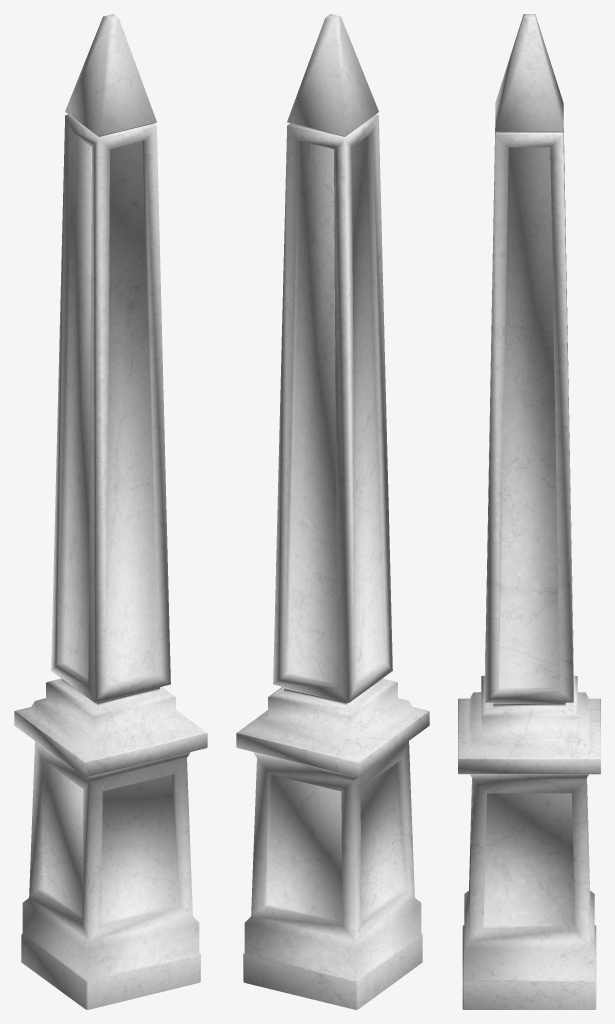
Rendered from Obelisk1_0001.obj.
3 views of the same model, side by side, from view 1: azimuth 30°, elevation 25°; view 2: azimuth 150°, elevation 25°; view 3: azimuth 270°, elevation 25° (orthographic).
Parts seen in each view (by area): view 1: Obelisk_low; view 2: Obelisk_low; view 3: Obelisk_low.
Part boxes in pixels (left/top/right/bottom): Obelisk_low: left=14, top=14, right=207, bottom=1009; Obelisk_low: left=236, top=14, right=429, bottom=1009; Obelisk_low: left=458, top=14, right=600, bottom=1009.
Bounding box in the file's own units: 2.1 × 15.69 × 2.1.
1 material, 1 textured.
